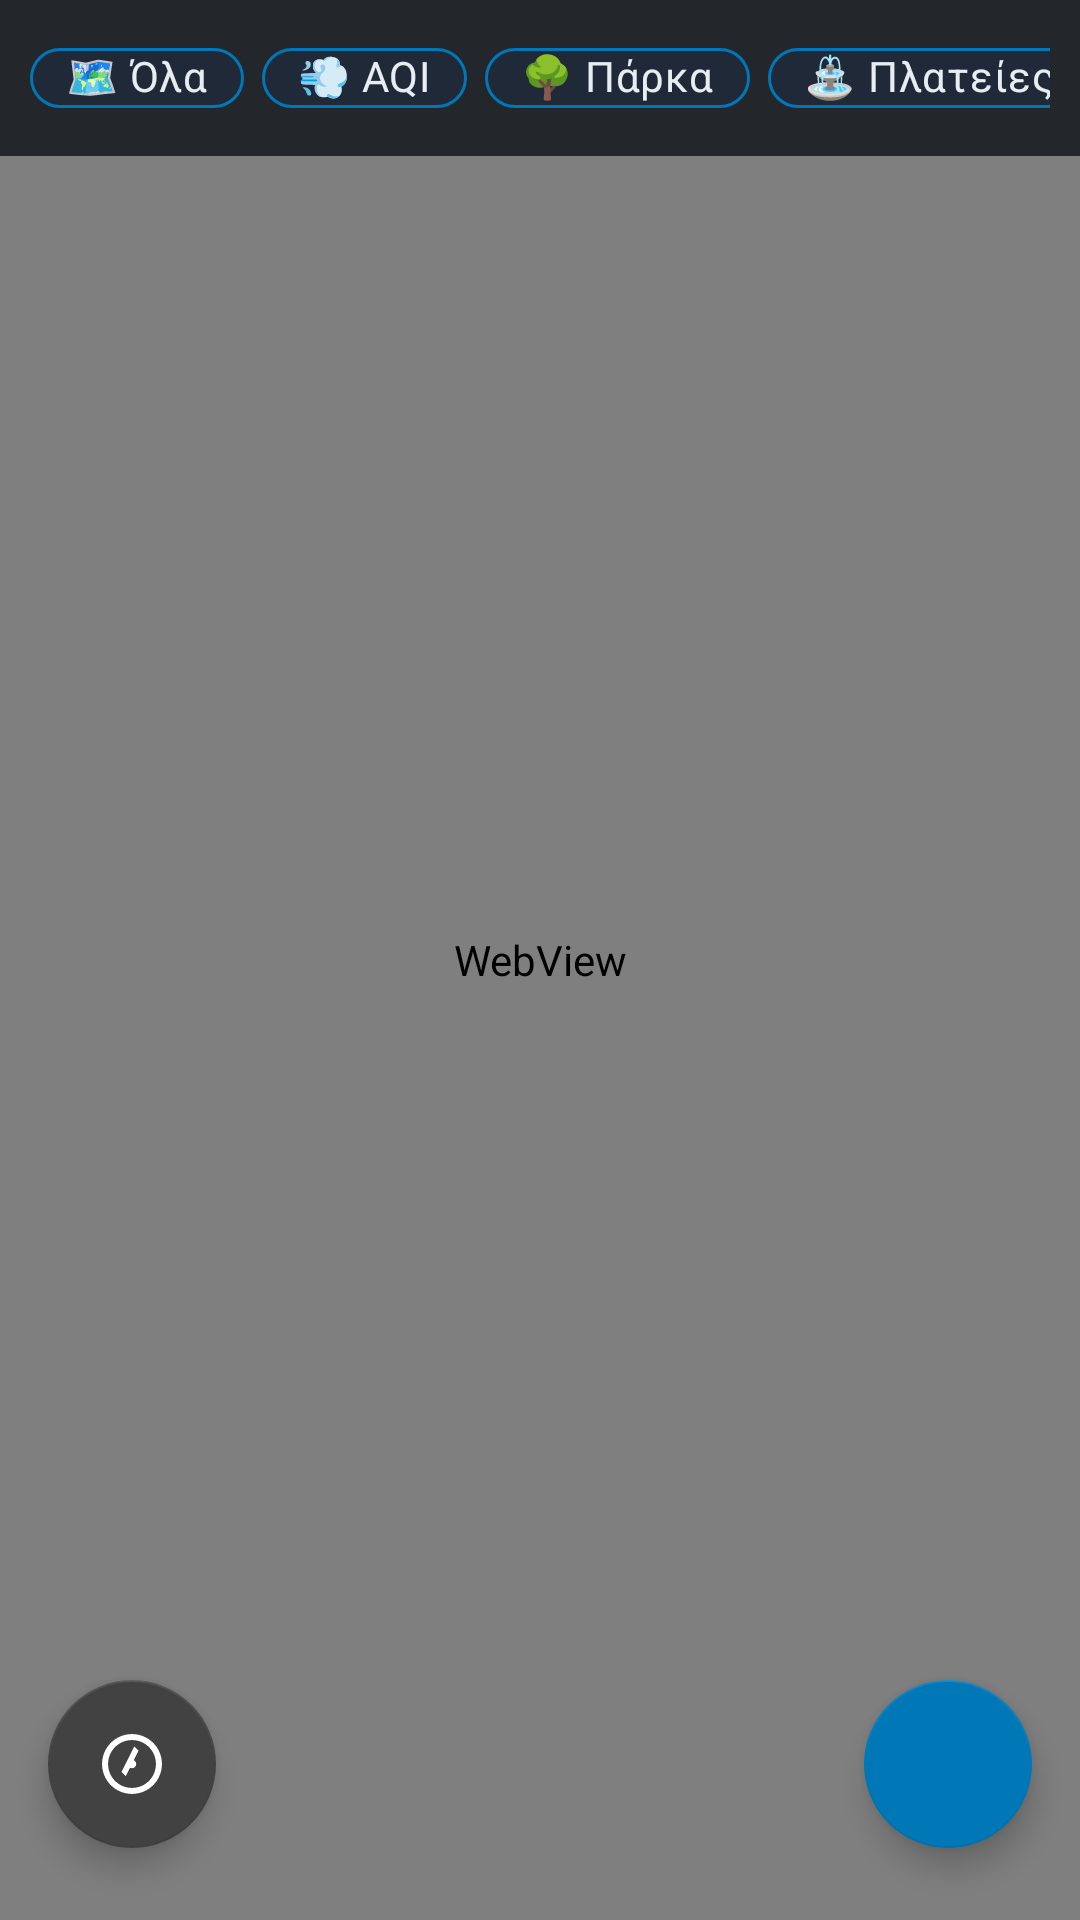

Screen size 1080w x 1920h. Icon name, then its box in pixels as (x1, y1, x2, y2):
Κλείδωμα πυξίδας/συνημιτόνου: (48, 1680, 216, 1848)
